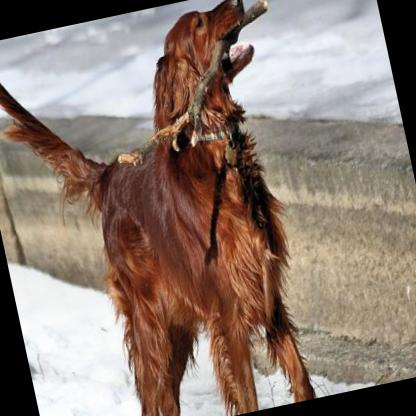Irish_setter: (0, 0, 330, 416)
